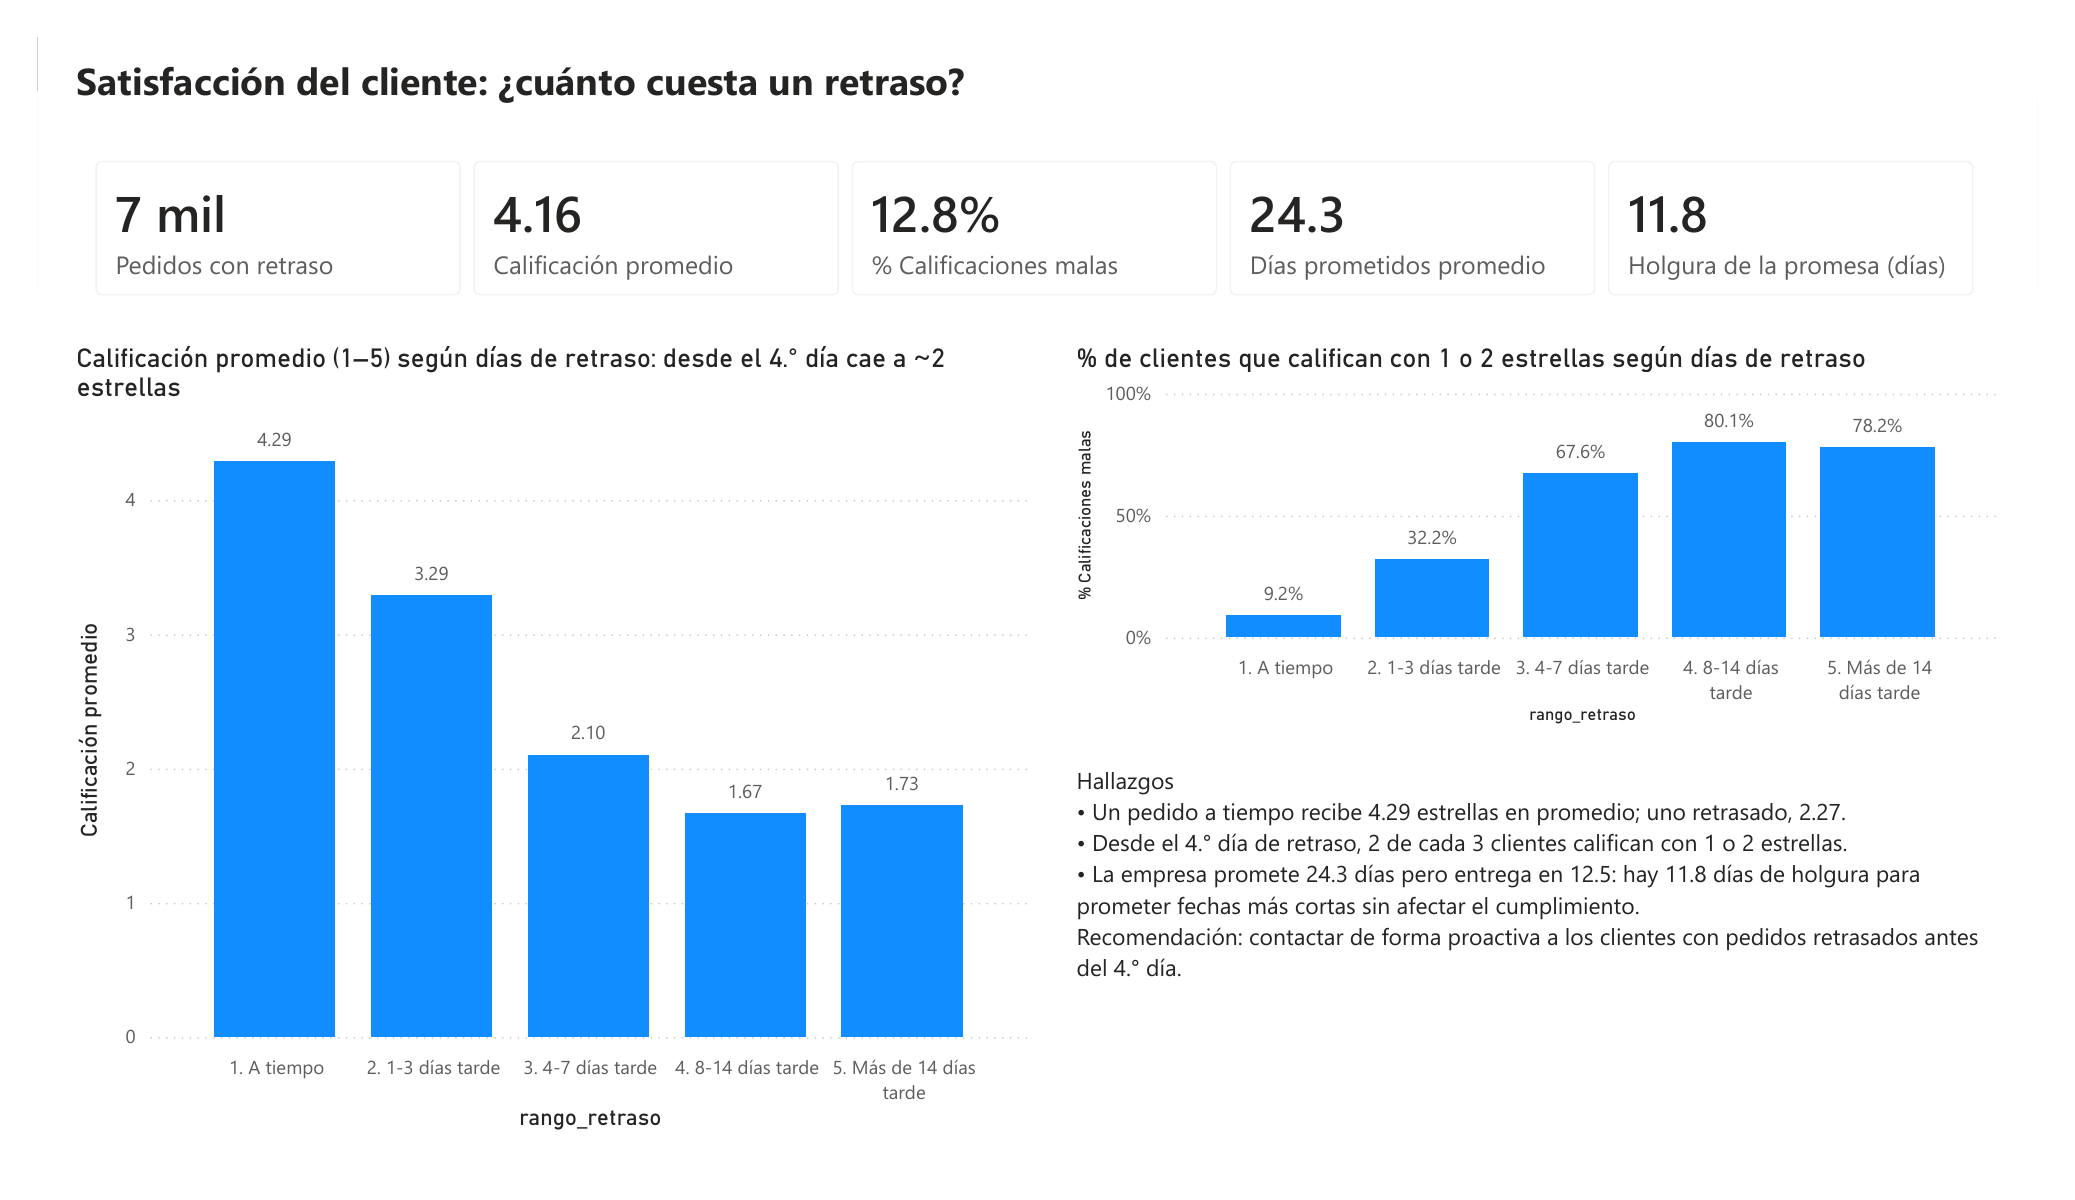

This screenshot's page, from the dashboard's own definition file:
{"tool":"powerbi","page":{"name":"Satisfacción del cliente","canvas":[1280,720],"ordinal":2},"visuals":[{"type":"cardVisual","fields":{"Data":["_Medidas.Pedidos con retraso","_Medidas.Calificación promedio","_Medidas.% Calificaciones malas","_Medidas.Días prometidos promedio","_Medidas.Holgura de la promesa (días)"]},"box":[20,62,1240,120],"z":0},{"type":"textbox","box":[660,460,600,245],"z":4000},{"type":"textbox","box":[20,6,1240,50],"z":5000},{"type":"clusteredColumnChart","title":"Calificación promedio (1–5) según días de retraso: desde el 4.° día cae a ~2 estrellas","fields":{"Y":["_Medidas.Calificación promedio"],"Category":["vw_pedidos.rango_retraso"]},"box":[20,195,620,510],"z":5001},{"type":"clusteredColumnChart","title":"% de clientes que califican con 1 o 2 estrellas según días de retraso","fields":{"Category":["vw_pedidos.rango_retraso"],"Y":["_Medidas.% Calificaciones malas"]},"box":[660,195,600,250],"z":5002}]}

Visuals, with their boxes on the page's 1280x720 design canvas (x1, y1, x2, y2). These are canvas units, not pixel positions in the 2075x1200 screenshot, which may show the page scaled, cropped or inside an application window:
cardVisual - _Medidas.Pedidos con retraso x _Medidas.Calificación promedio: select_region(20, 62, 1260, 182)
textbox: select_region(660, 460, 1260, 705)
textbox: select_region(20, 6, 1260, 56)
"Calificación promedio (1–5) según días de retraso: desde el 4.° día cae a ~2 estrellas" clusteredColumnChart: select_region(20, 195, 640, 705)
"% de clientes que califican con 1 o 2 estrellas según días de retraso" clusteredColumnChart: select_region(660, 195, 1260, 445)
